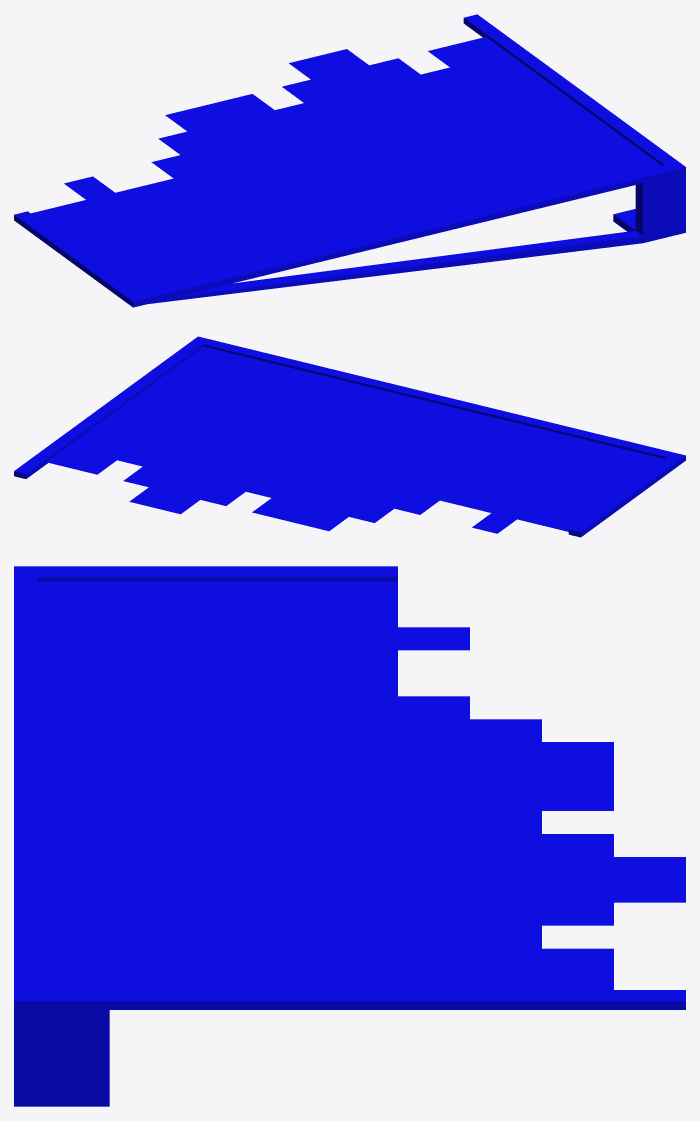
Rendered from sub_BrokenWireNettingStool1.fbx.
3 renders of one model, top to bottom at view 1: azimuth 30°, elevation 25°; view 2: azimuth 150°, elevation 25°; view 3: azimuth 270°, elevation 25°, orthographic. The views are drawn at different scales.
Visible parts, largest first — view 1: sub_BrokenWireNettingStool1; view 2: sub_BrokenWireNettingStool1; view 3: sub_BrokenWireNettingStool1.
Boxes of the visible parts, x1,y1,x2,y2 form: sub_BrokenWireNettingStool1: (14,14,685,307); sub_BrokenWireNettingStool1: (14,336,685,537); sub_BrokenWireNettingStool1: (14,566,685,1106).
Size of the model in its own units: 6.28 by 0.7139 by 4.1.
